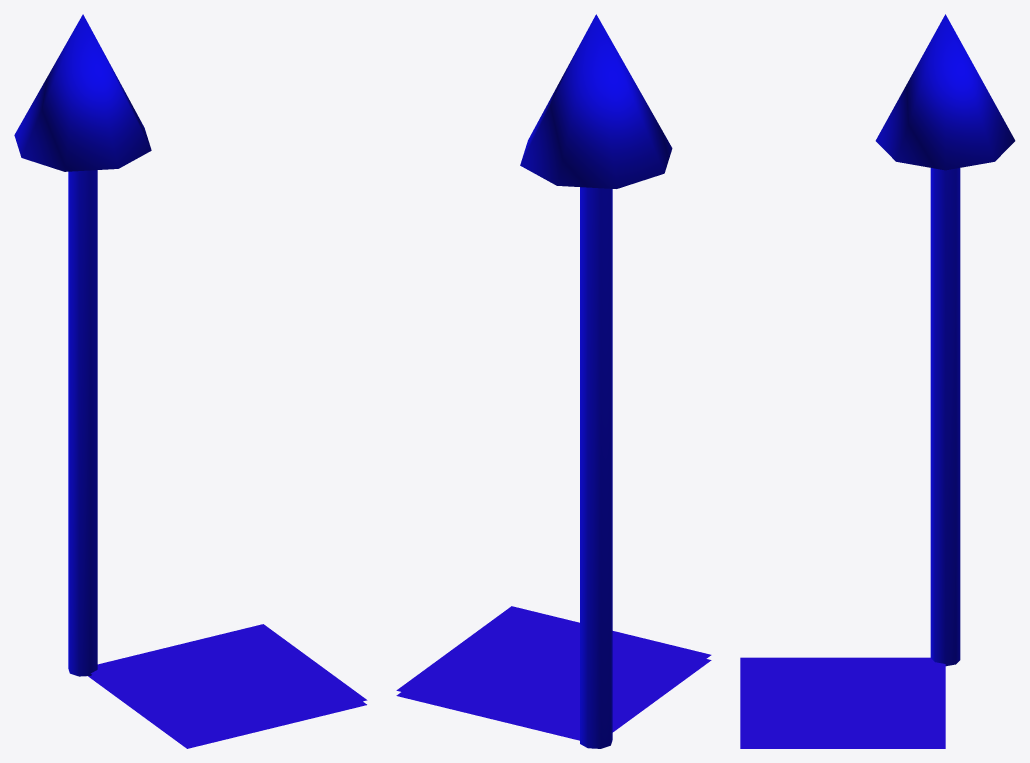
File: gizmo_z.fbx
The picture shows the model from 3 angles, left to right: view 1: azimuth 30°, elevation 25°; view 2: azimuth 150°, elevation 25°; view 3: azimuth 270°, elevation 25°; orthographic projection. The views are drawn at different scales.
Visible parts, largest first — view 1: Cone, Plane; view 2: Cone, Plane; view 3: Cone, Plane.
Part boxes in pixels (x1=…): Cone: x1=14, y1=14, x2=151, y2=676; Plane: x1=88, y1=624, x2=367, y2=748; Cone: x1=520, y1=14, x2=672, y2=748; Plane: x1=396, y1=606, x2=711, y2=740; Cone: x1=875, y1=14, x2=1015, y2=666; Plane: x1=740, y1=657, x2=945, y2=748.
Size of the model in its own units: 38.57 by 100 by 38.57.
